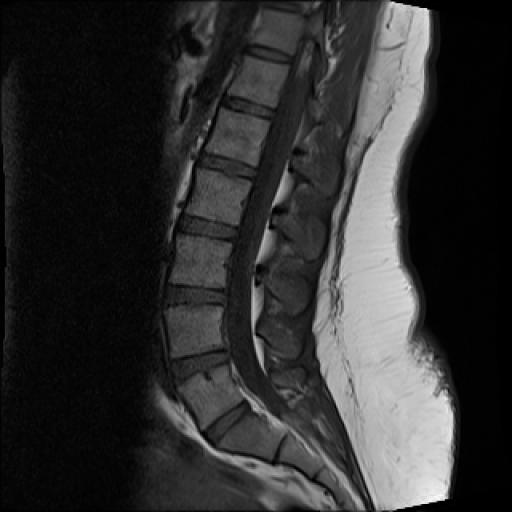L1: (206, 108, 270, 166)
L2: (185, 168, 251, 226)
L3: (169, 233, 232, 288)
L4: (164, 305, 224, 358)
L5: (178, 365, 243, 430)
S1: (216, 410, 284, 462)
